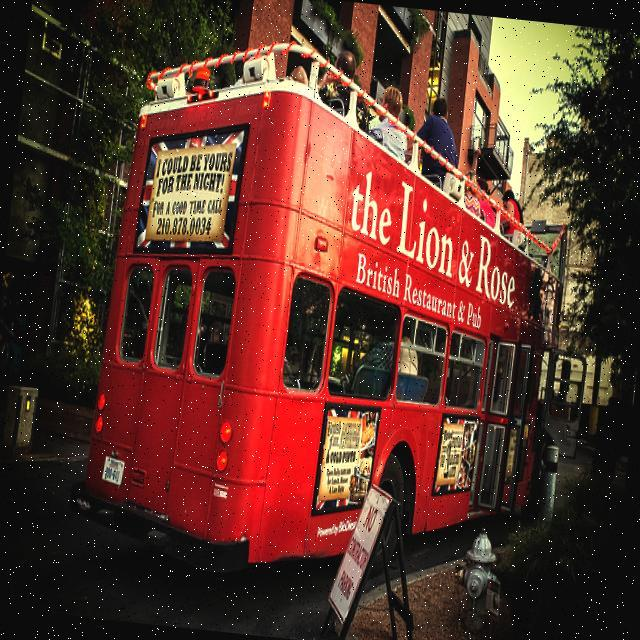fire_hydrant: (447, 524, 508, 634)
